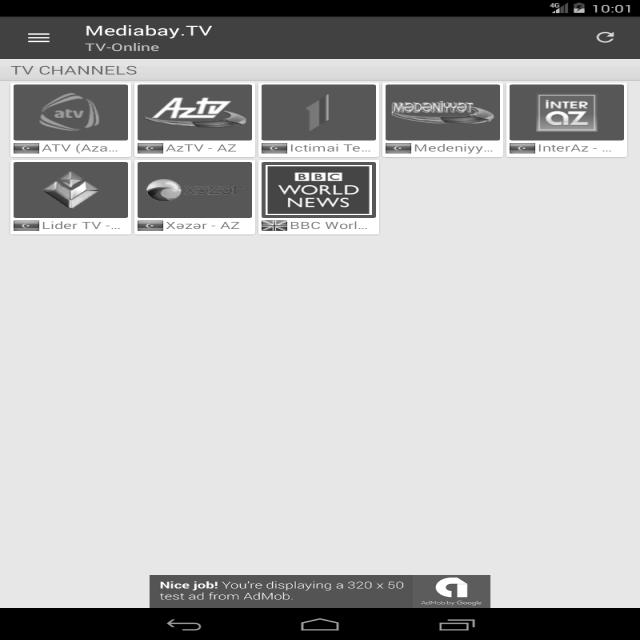ImageButton: (21, 27, 71, 51), (591, 26, 625, 49)
ImageView: (137, 86, 623, 138), (12, 161, 370, 212), (11, 83, 123, 137), (414, 578, 489, 604), (254, 141, 288, 153), (134, 142, 166, 154), (262, 217, 286, 232), (12, 141, 38, 151)
TextView: (81, 18, 233, 54), (3, 60, 157, 80), (544, 140, 626, 156), (292, 218, 373, 232), (170, 217, 242, 232), (414, 141, 490, 155), (44, 218, 118, 232), (46, 141, 108, 152)
